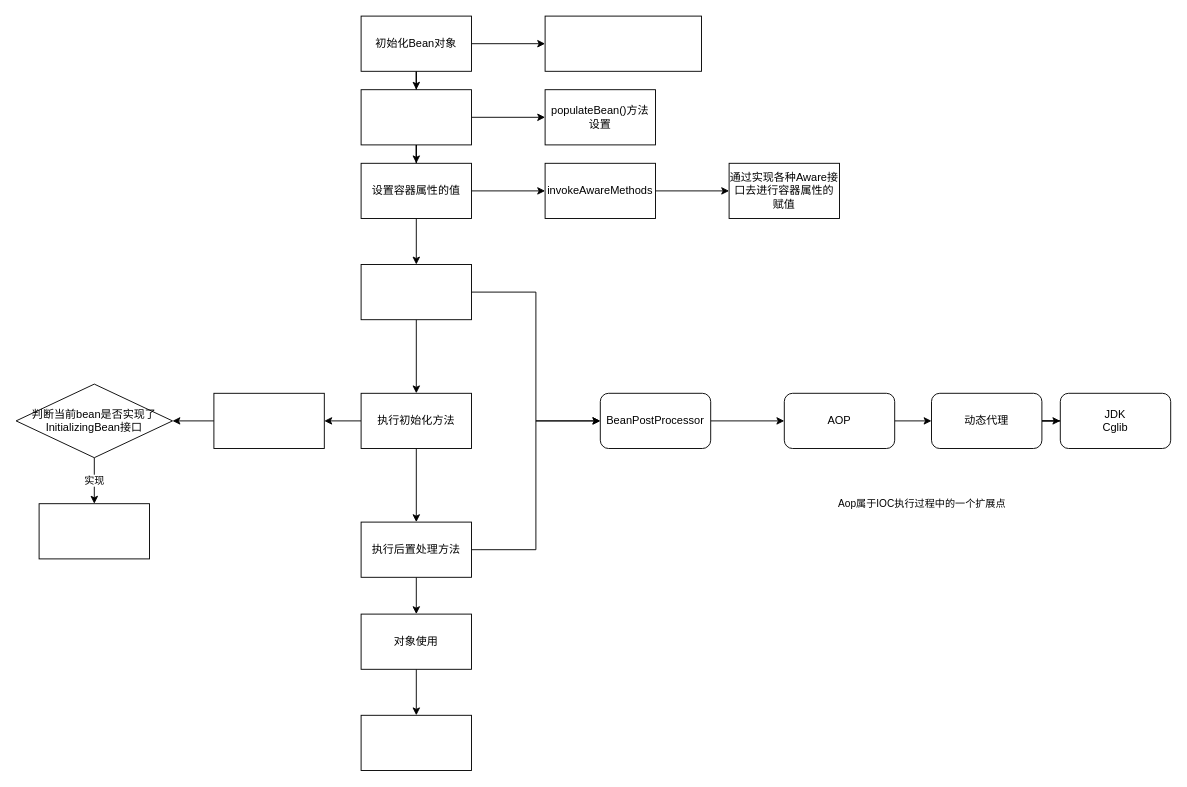
This 1187x787 diagram has some shape labels left out. The centre of each missing label's shape, as x and y in pixels:
"invokeInirMethods" goes at pixel 268 420.
"对象销毁" goes at pixel 416 742.
"执行afterPropertiesSet方法" goes at pixel 94 531.
"执行前置方法" goes at pixel 416 292.
"设置对象中自定义的属性值" goes at pixel 416 117.
"通过反射生成bean对象，调用createBeanInstance()方法生成" goes at pixel 623 43.
